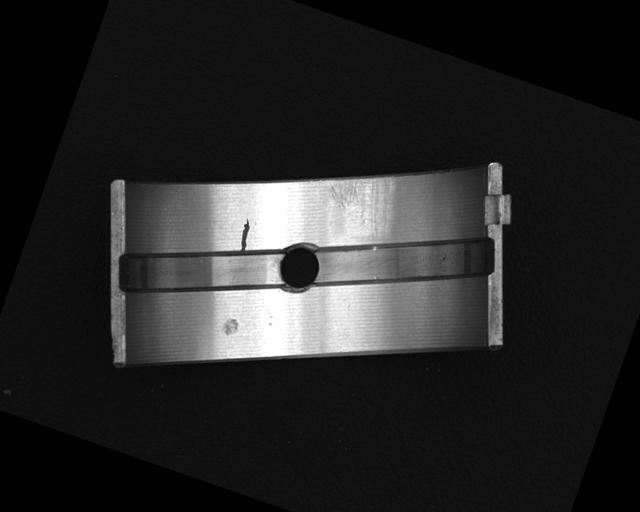bruise: (219, 314, 243, 338)
gap: (308, 192, 496, 334), (112, 210, 287, 336)
hole: (271, 240, 325, 295)
nick: (234, 215, 257, 253)
scratch: (319, 149, 405, 242)
